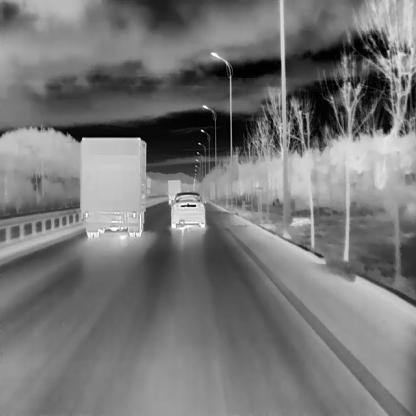car: (79, 136, 150, 237), (170, 190, 206, 228), (167, 178, 180, 204)
